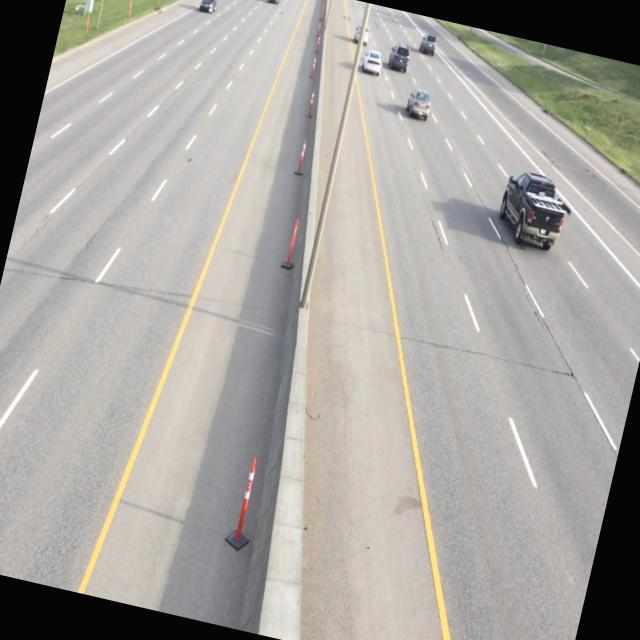Vehicle: (492, 164, 574, 257), (403, 85, 436, 125), (384, 40, 414, 74), (358, 48, 386, 80), (417, 28, 440, 61), (195, 0, 219, 17)
